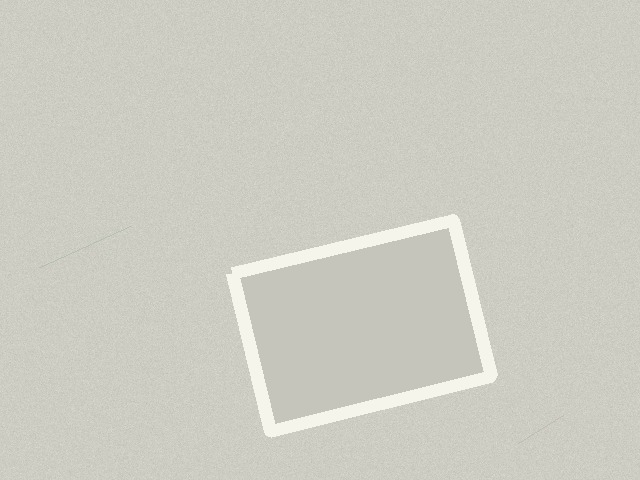parking_area: (232, 220, 491, 431)
